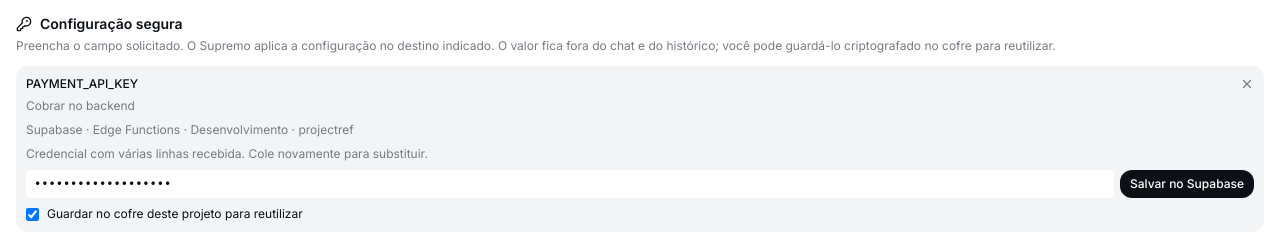
it: project secret form › clears an applied credential even if vault storage fails, without claiming it was stored
This screenshot has width=1280, height=249.
Click the button "Salvar no Supabase".
click(1187, 184)  # box [1120,170,1254,198]
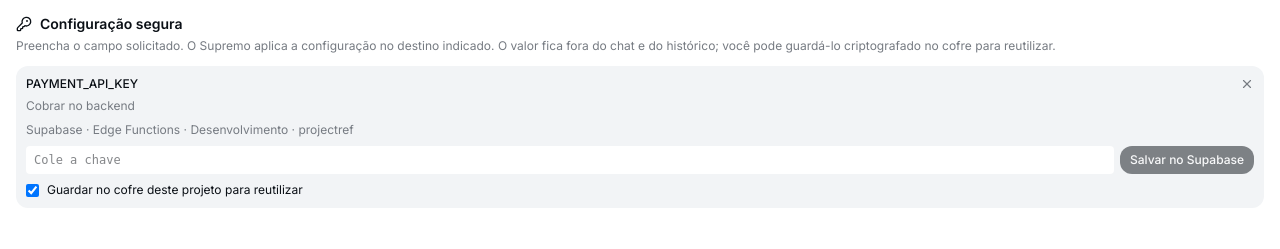
expect the password field labelled "PAYMENT_API_KEY" is empty: met, box [26,146,1114,174]
expect the text "Credencial com várias linhas recebida" is gone: met
